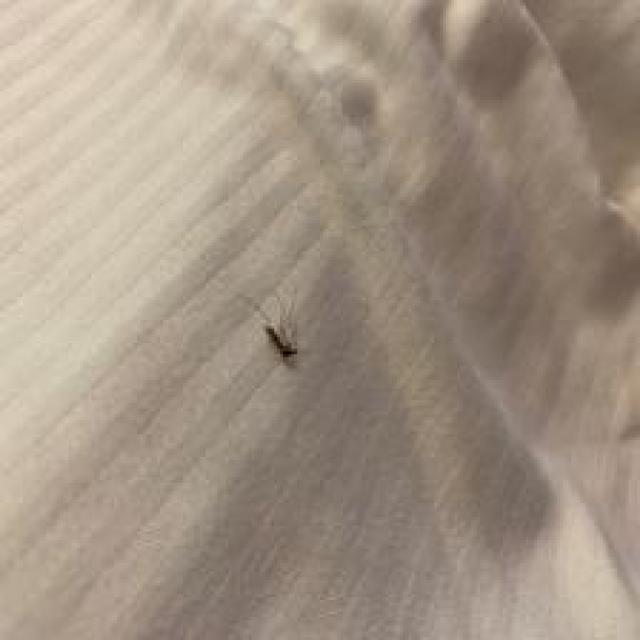Culex: (263, 323, 297, 360)
